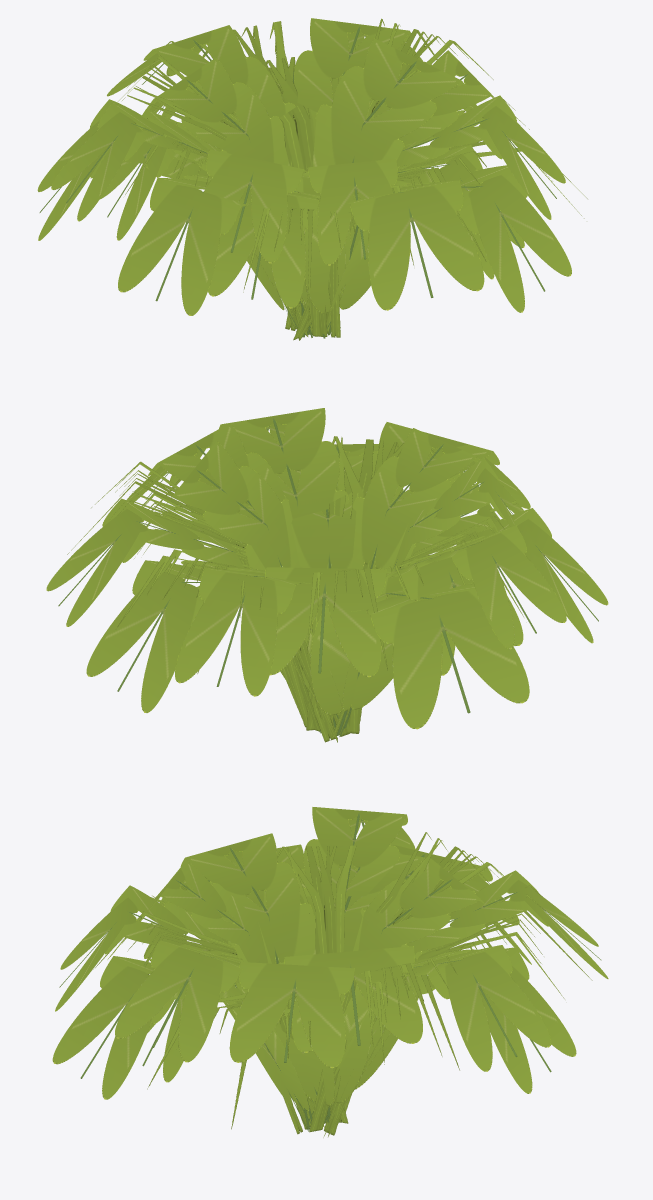
File: Furn_Undergrowth_A.fbx
3 renders of one model, top to bottom at view 1: azimuth 30°, elevation 25°; view 2: azimuth 150°, elevation 25°; view 3: azimuth 270°, elevation 25°, orthographic. The views are drawn at different scales.
Parts seen in each view (by area): view 1: Furn_Undergrowth_A; view 2: Furn_Undergrowth_A; view 3: Furn_Undergrowth_A.
Part boxes in pixels (x1,y1,x2,y2): Furn_Undergrowth_A: (37, 18, 587, 340); Furn_Undergrowth_A: (46, 408, 608, 742); Furn_Undergrowth_A: (52, 807, 608, 1137).
Bounding box in the file's own units: 1.2 × 0.5 × 1.2.
Materials: 1 (1 with a texture image).
